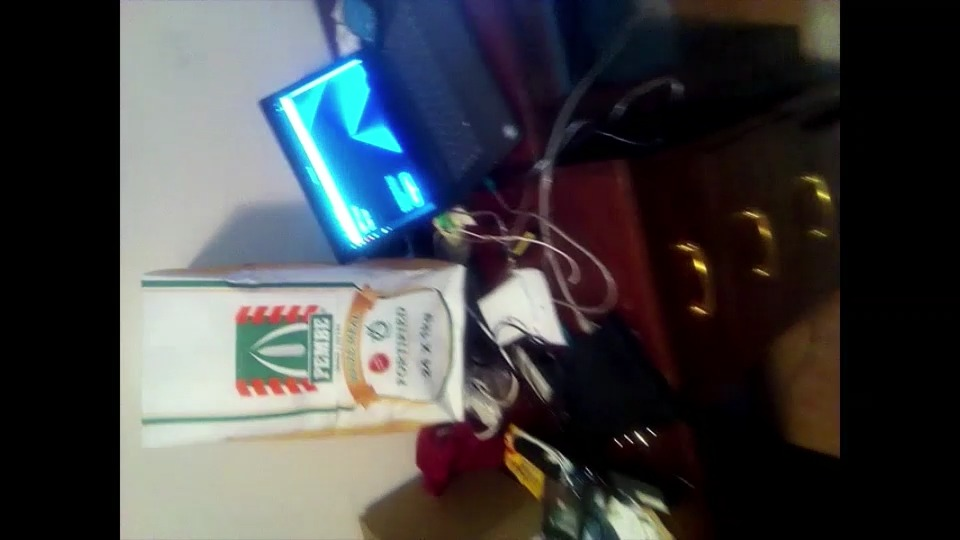maize_flour_green_label: (147, 266, 461, 435)
